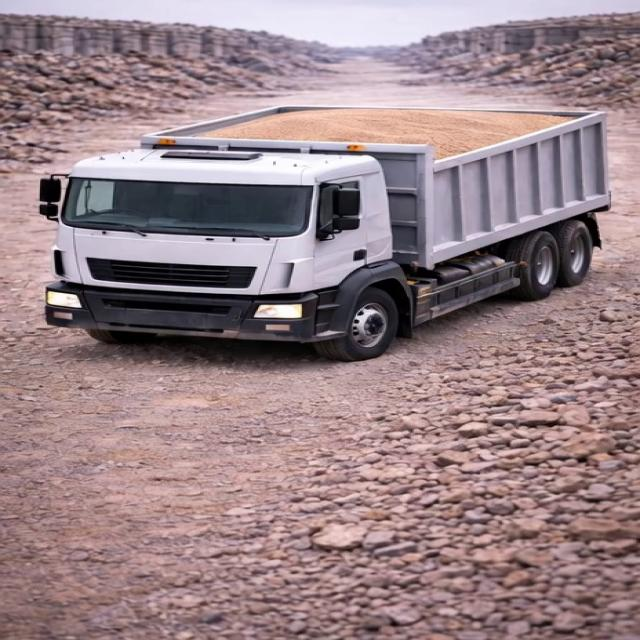Box: (150, 104, 600, 156)
Truck: (36, 89, 608, 353)
